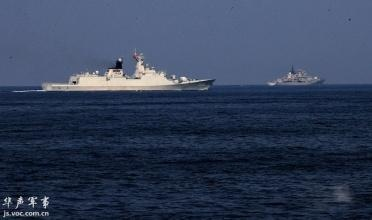warship: (34, 51, 219, 93), (267, 64, 328, 87)
